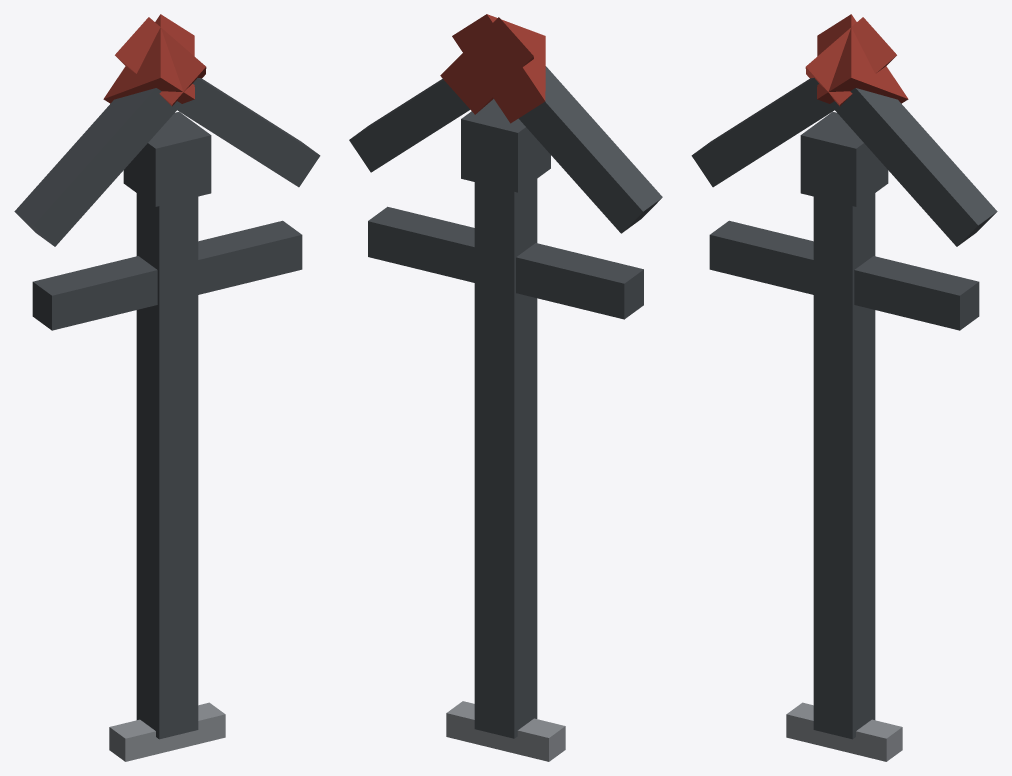
The model's file is anchor.glb.
3 views of the same model, side by side, from view 1: azimuth 30°, elevation 25°; view 2: azimuth 150°, elevation 25°; view 3: azimuth 330°, elevation 25° (orthographic). The views are drawn at different scales.
Parts seen in each view (by area): view 1: anchor; view 2: anchor; view 3: anchor.
Part boxes in pixels (x1,y1,x2,y2): anchor: [14, 14, 320, 761]; anchor: [349, 14, 662, 761]; anchor: [691, 14, 997, 761].
Size of the model in its own units: 1.03 by 2.47 by 0.2.
1 material, 1 textured.
